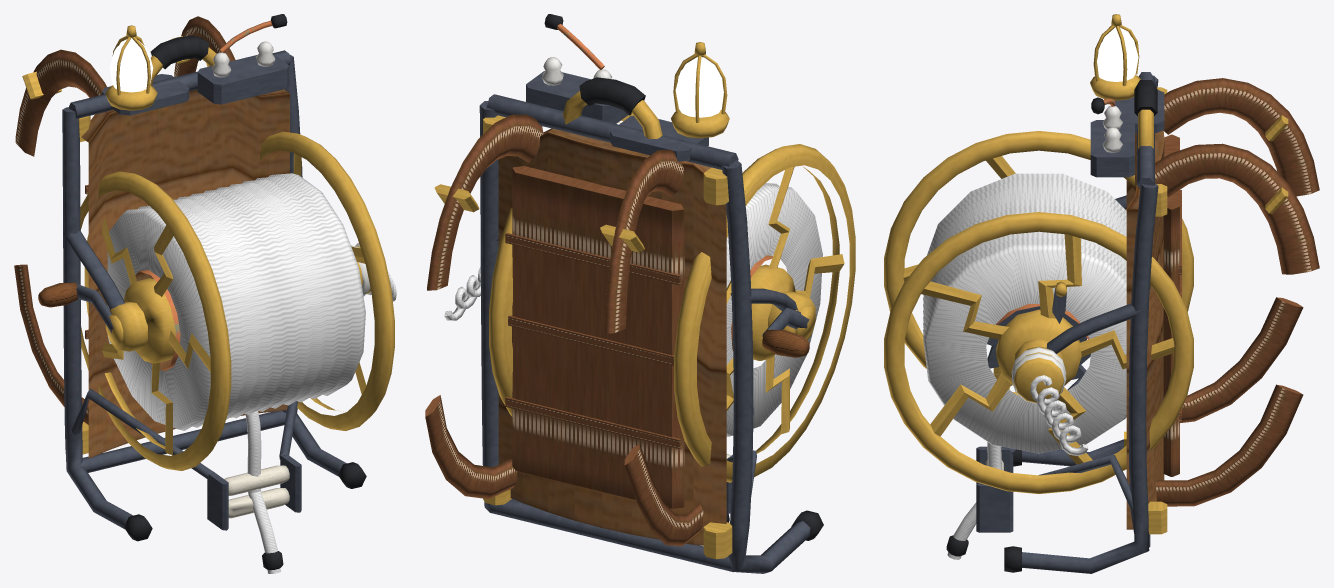
Rendered from reel_pack.glb.
3 renders of one model, left to right at view 1: azimuth 30°, elevation 25°; view 2: azimuth 150°, elevation 25°; view 3: azimuth 270°, elevation 25°, orthographic. The views are drawn at different scales.
Visible parts, largest first — view 1: Sway_PackAtlas, Reel_Windings_Cable, Reel_PackAtlas, Sway_Cable, Lamp_Glow, Crank_PackAtlas, CrankKnob_PackAtlas; view 2: Sway_PackAtlas, Reel_PackAtlas, Reel_Windings_Cable, Lamp_Glow, Sway_Cable, CrankKnob_PackAtlas, Crank_PackAtlas; view 3: Sway_PackAtlas, Reel_PackAtlas, Reel_Windings_Cable, Sway_Cable, Lamp_Glow.
Boxes of the visible parts, x1,y1,x2,y2 form: Sway_PackAtlas: (14,14,370,570); Reel_Windings_Cable: (107,173,365,430); Reel_PackAtlas: (80,131,394,470); Sway_Cable: (211,41,396,573); Lamp_Glow: (109,38,153,92); Crank_PackAtlas: (76,284,123,345); CrankKnob_PackAtlas: (38,282,78,307); Sway_PackAtlas: (425,14,823,573); Reel_PackAtlas: (489,114,855,482); Reel_Windings_Cable: (726,183,822,436); Lamp_Glow: (675,57,723,117); Sway_Cable: (444,57,611,320); CrankKnob_PackAtlas: (762,329,809,357); Crank_PackAtlas: (762,306,815,339); Sway_PackAtlas: (946,14,1319,573); Reel_PackAtlas: (884,131,1193,493); Reel_Windings_Cable: (923,173,1126,453); Sway_Cable: (947,106,1122,559); Lamp_Glow: (1097,27,1138,81).
Bounding box in the file's own units: 0.5308 × 0.7666 × 0.5905.
3 materials, 2 textured.
